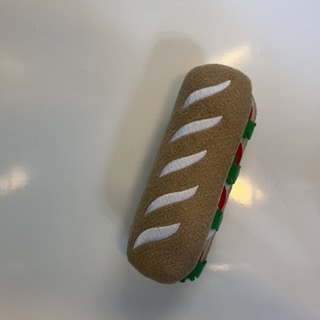sandwich: (126, 64, 257, 284)
